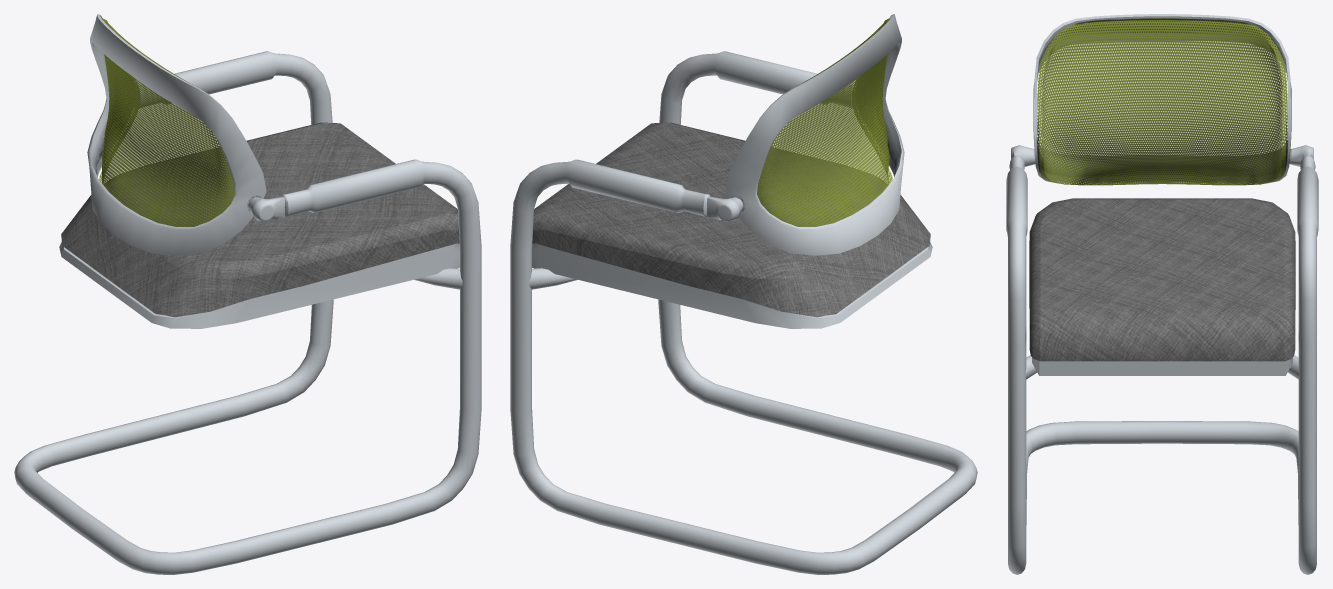
File: Meeting_Room_Office_Chair.glb
3 views of the same model, side by side, from view 1: azimuth 30°, elevation 25°; view 2: azimuth 150°, elevation 25°; view 3: azimuth 270°, elevation 25° (orthographic).
Visible parts, largest first — view 1: defaultMaterial (×4); view 2: defaultMaterial (×4); view 3: defaultMaterial (×4).
Part boxes in pixels (bbox=[...]): defaultMaterial (×4): bbox=[14, 14, 481, 574]; defaultMaterial (×4): bbox=[510, 14, 977, 574]; defaultMaterial (×4): bbox=[1006, 14, 1318, 574].
Bounding box in the file's own units: 1.58 × 2 × 1.24.
1 material, 1 textured.
